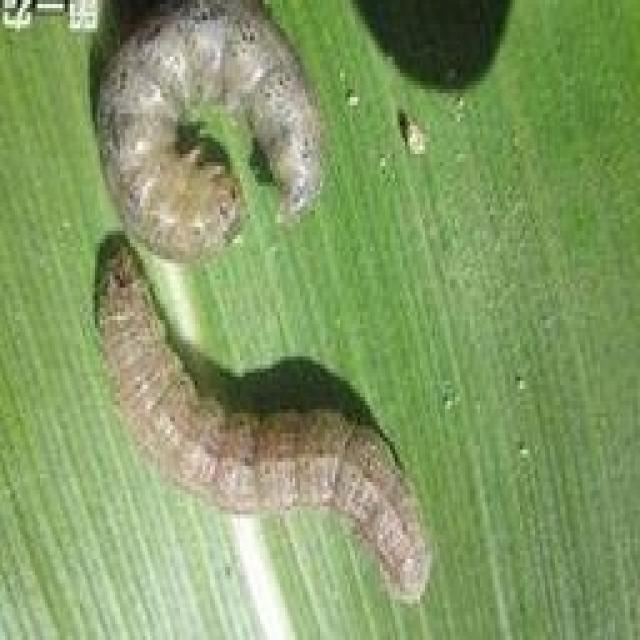black cutworm: (82, 254, 440, 615), (68, 1, 348, 272)
